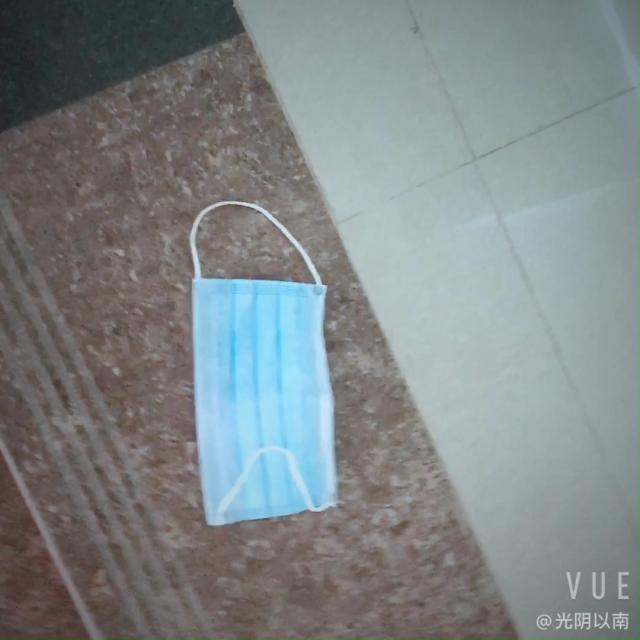non-organic waste: (157, 249, 350, 530)
